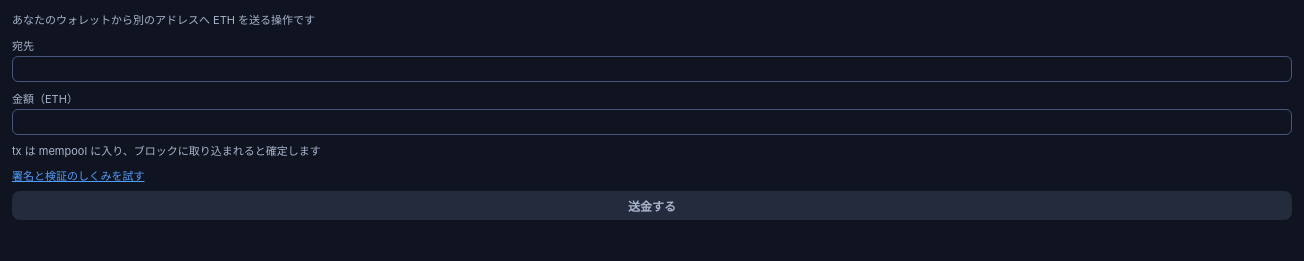
TransferForm (ARCHITECTURE.md §6.5-1) › shows a validation message once an invalid amount has been typed
Step 1. Type "abc" into the field with test id "operation-transfer-amount" → coordinates (652, 122), box [12,108,1292,134]
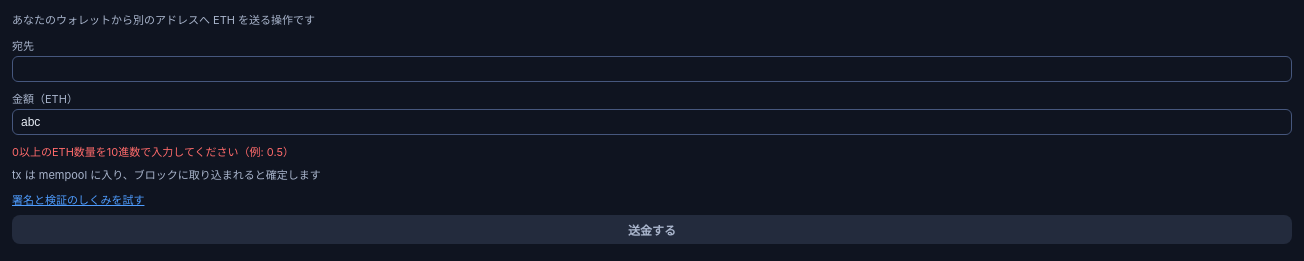
Expected: the text "0以上のETH数量を10進数で入力してください（例: 0.5）" is shown, [12,144,294,158]
